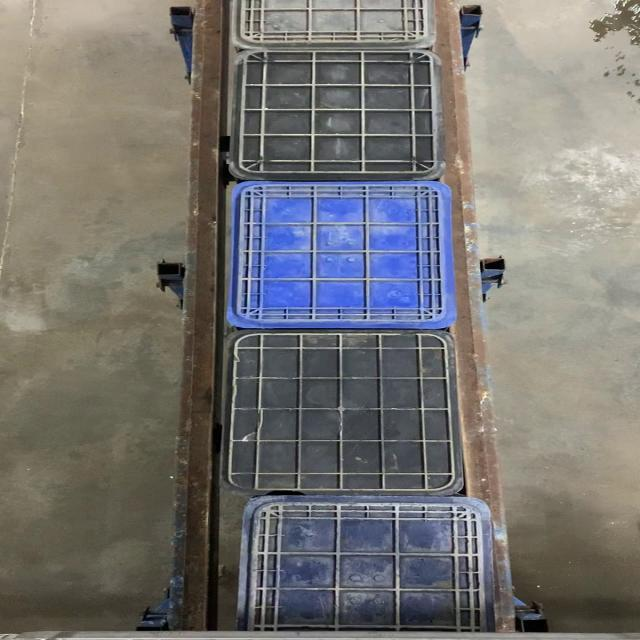Box: (220, 330, 470, 494), (226, 182, 458, 329), (230, 46, 446, 182)
